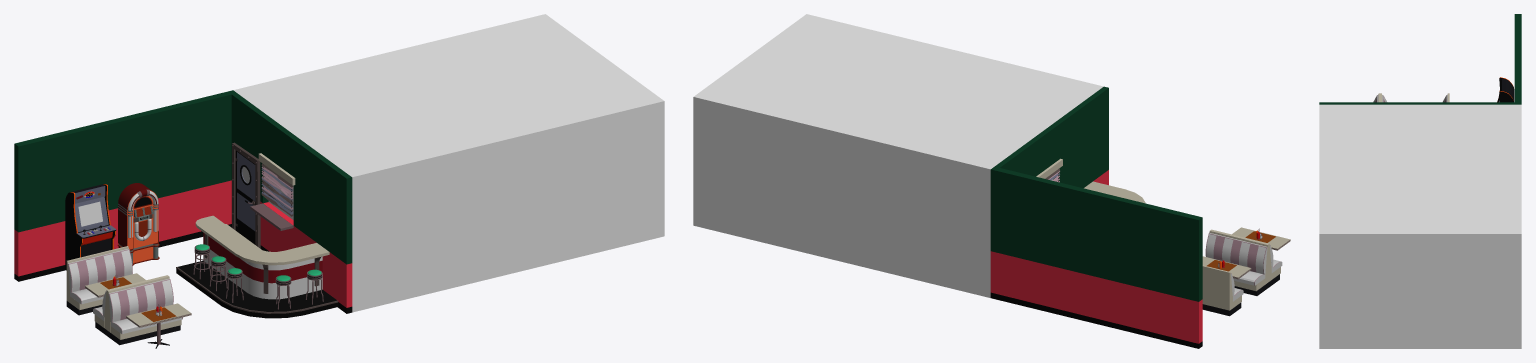
The model's file is coffe.fbx.
3 views of the same model, side by side, from view 1: azimuth 30°, elevation 25°; view 2: azimuth 150°, elevation 25°; view 3: azimuth 270°, elevation 25° (orthographic). The views are drawn at different scales.
Parts seen in each view (by area): view 1: Box001, stena, table2, sit, automat, radio, kitchenDoor, Jaluzi, chairs, tables; view 2: Box001, stena, sit, tables, table2; view 3: Box001, stena, automat.
Part boxes in pixels (x1=…): Box001: x1=233, y1=14, x2=664, y2=312; stena: x1=14, y1=90, x2=352, y2=313; table2: x1=176, y1=215, x2=338, y2=318; sit: x1=66, y1=246, x2=182, y2=345; automat: x1=65, y1=184, x2=116, y2=270; radio: x1=117, y1=183, x2=159, y2=265; kitchenDoor: x1=232, y1=142, x2=260, y2=248; Jaluzi: x1=250, y1=153, x2=295, y2=230; chairs: x1=193, y1=244, x2=323, y2=309; tables: x1=85, y1=273, x2=191, y2=348; Box001: x1=693, y1=14, x2=1103, y2=297; stena: x1=990, y1=86, x2=1202, y2=348; sit: x1=1202, y1=229, x2=1282, y2=316; tables: x1=1202, y1=227, x2=1290, y2=279; table2: x1=1084, y1=181, x2=1145, y2=203; Box001: x1=1319, y1=104, x2=1521, y2=348; stena: x1=1319, y1=14, x2=1521, y2=104; automat: x1=1497, y1=77, x2=1514, y2=102.
Size of the model in its own units: 2080 by 506 by 807.
